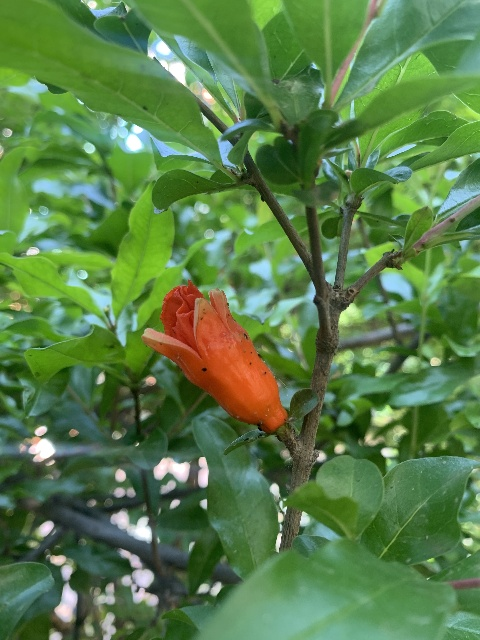flower: (141, 278, 285, 431)
